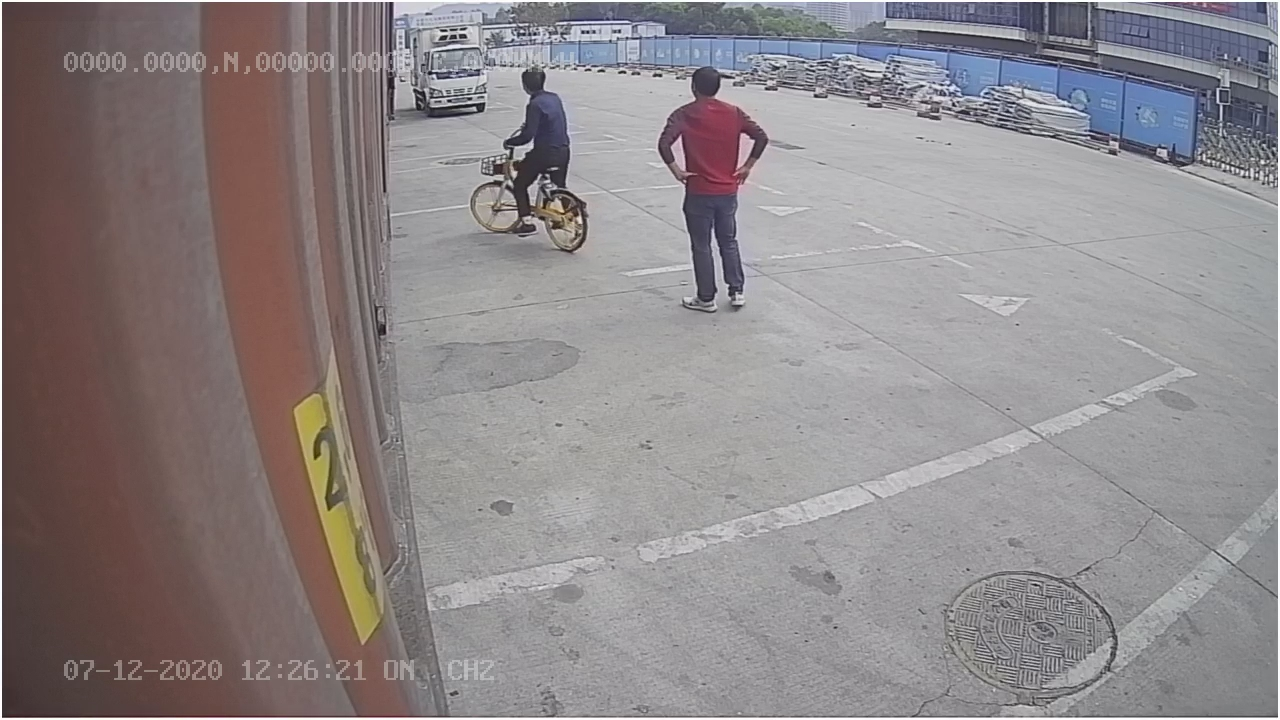person: (648, 62, 777, 317)
